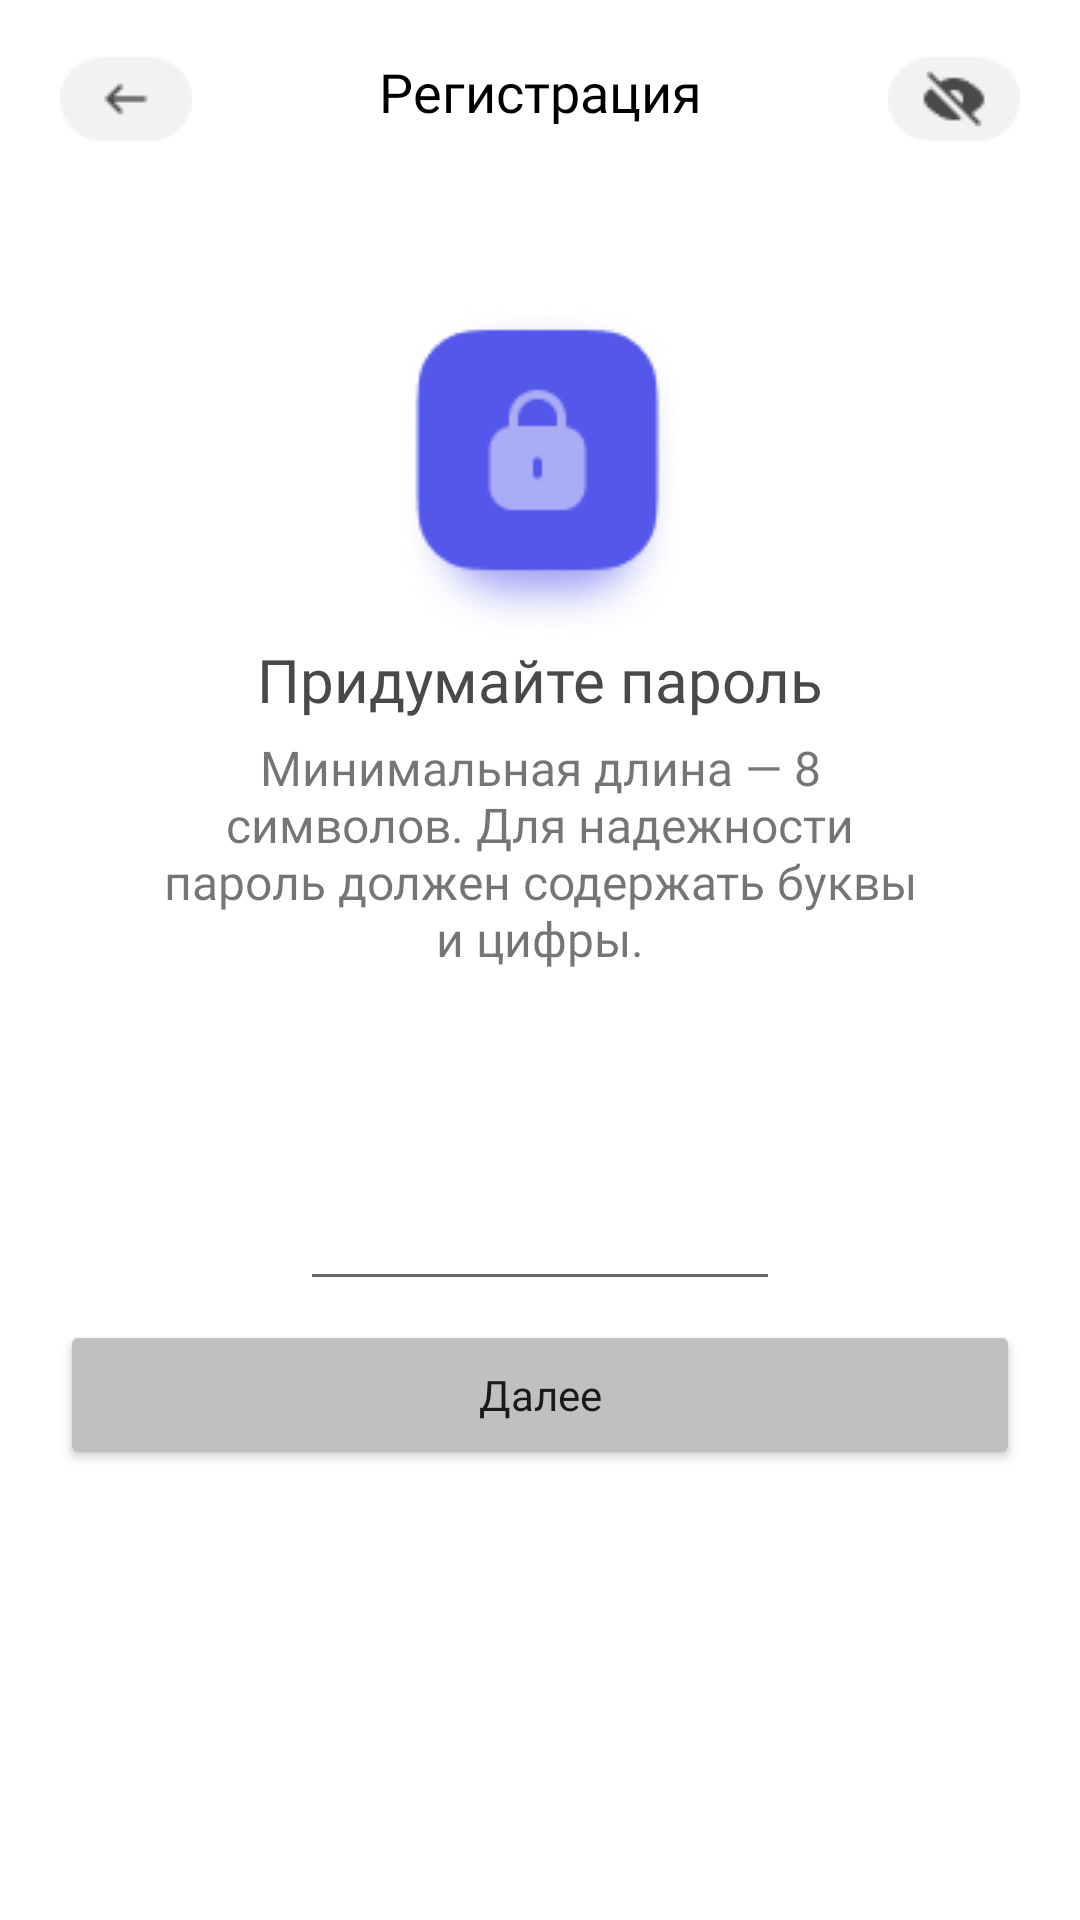

Screen size 1080*1920. Icon name, then its center in pixels as (x,y):
back: (126,99)
hide password: (954,99)
password lock: (537,467)
